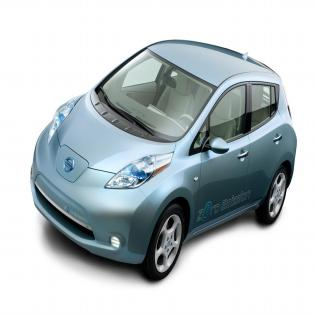Auto: (29, 38, 297, 282)
